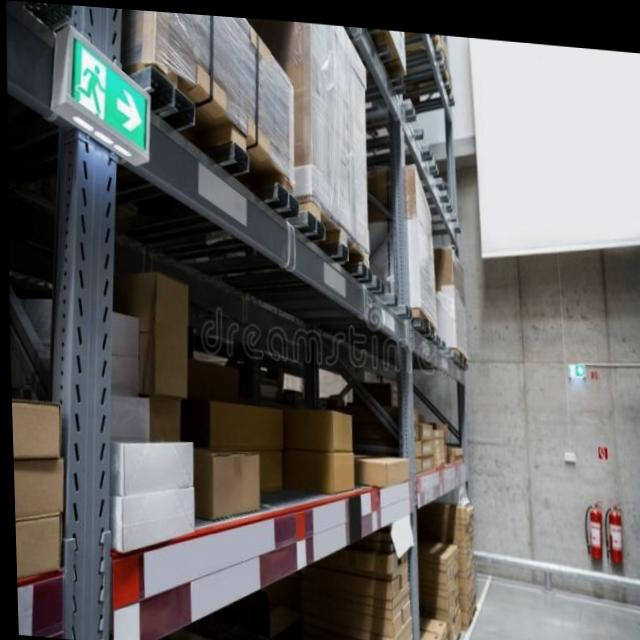FireExtinguisher: (577, 484, 603, 555), (597, 485, 623, 556)
